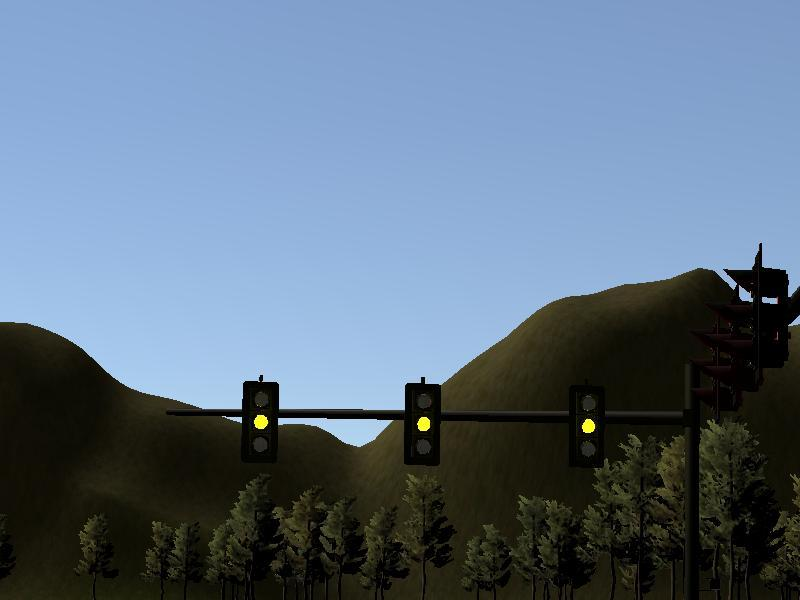Yellow: (241, 382, 279, 462), (405, 383, 441, 466), (569, 385, 605, 466)
